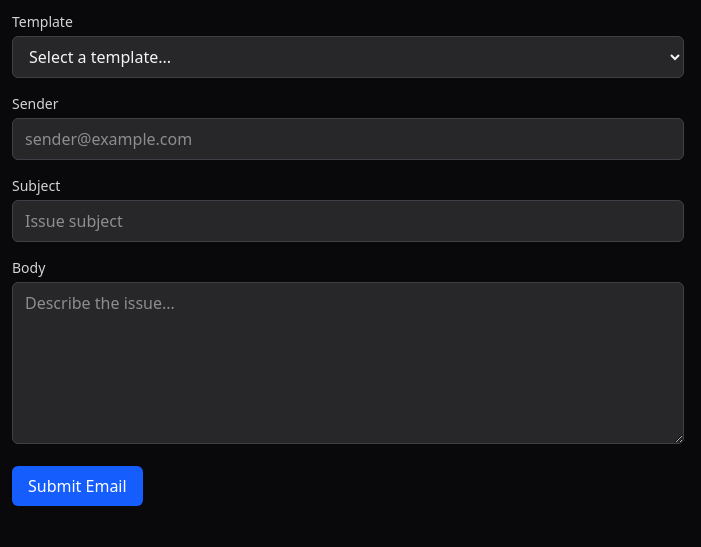
EmailComposer › Validation › shows error when body is empty on submit
Type "Some subject" into the field labelled "Subject" at (348, 221), box [12,200,684,242]
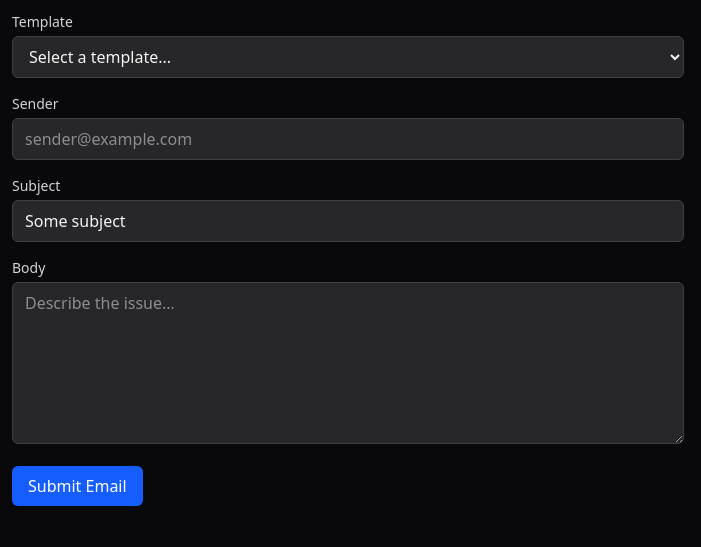
Click the button "Submit Email" at (77, 486), box [12,466,143,506]
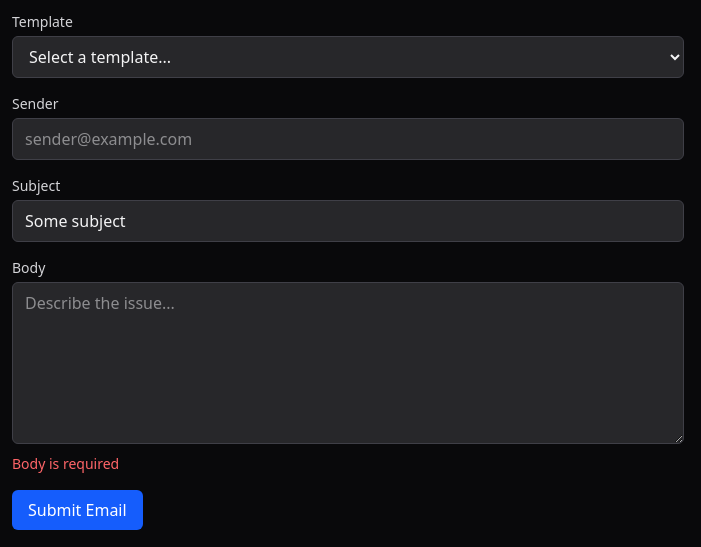
Now the text "Body is required" is shown, box [12,454,119,473]
